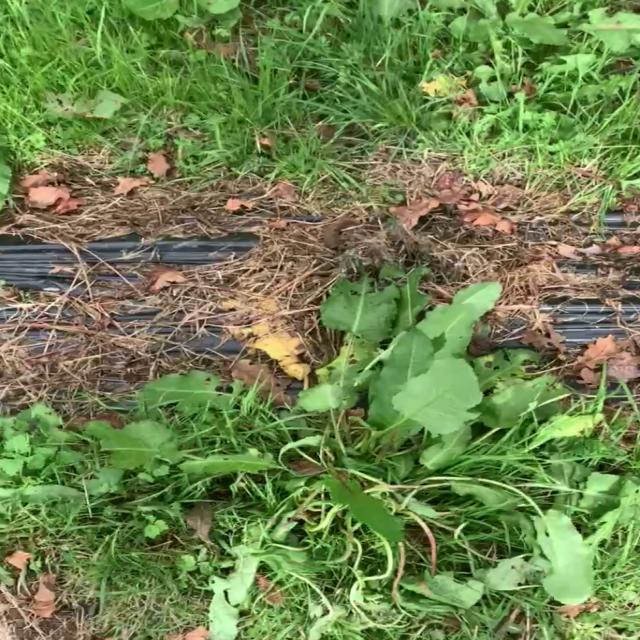organic waste: (77, 265, 640, 624), (334, 0, 640, 133), (76, 0, 270, 44)
